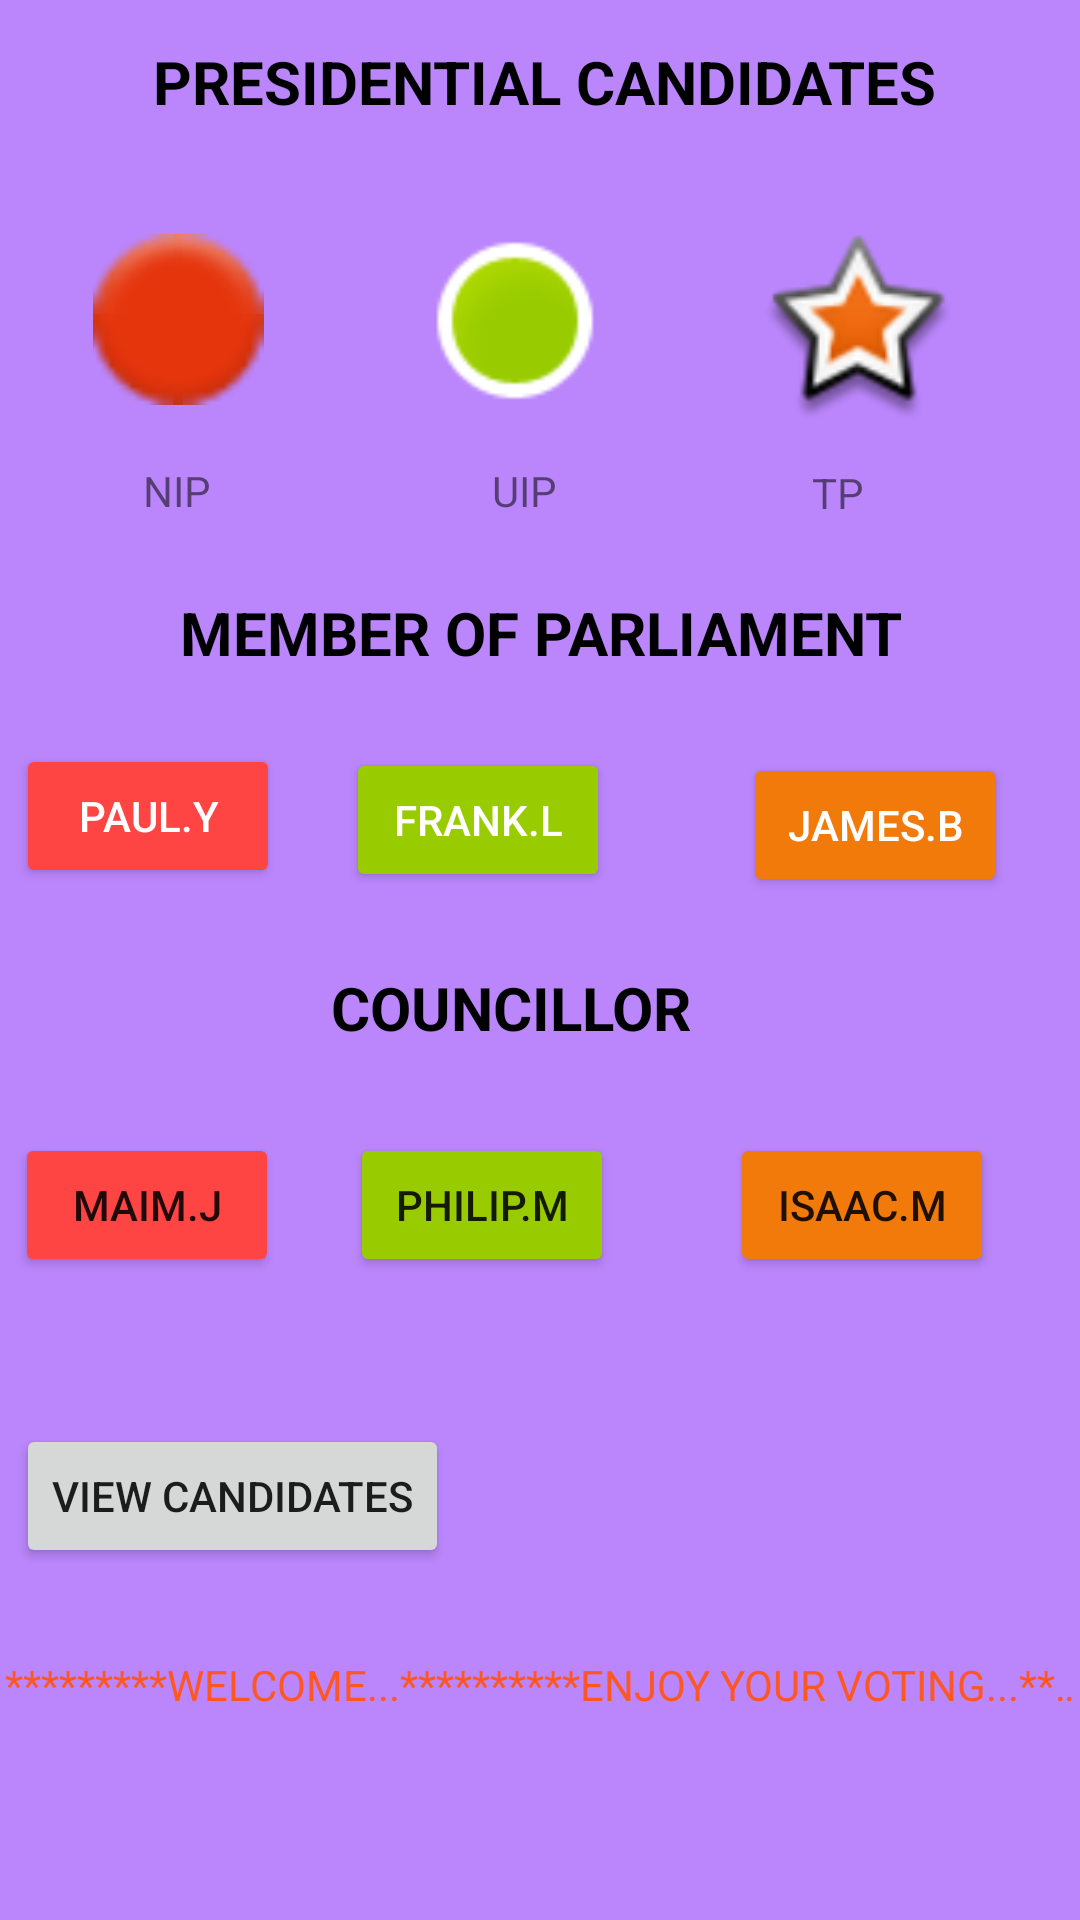

Icons on this 1080*1920 Android screen, each with its box as {"x1": x1, "y1": y1, "x2": x2, "y2": y2}:
presence online: {"x1": 436, "y1": 242, "x2": 594, "y2": 399}
star on: {"x1": 772, "y1": 235, "x2": 945, "y2": 412}
